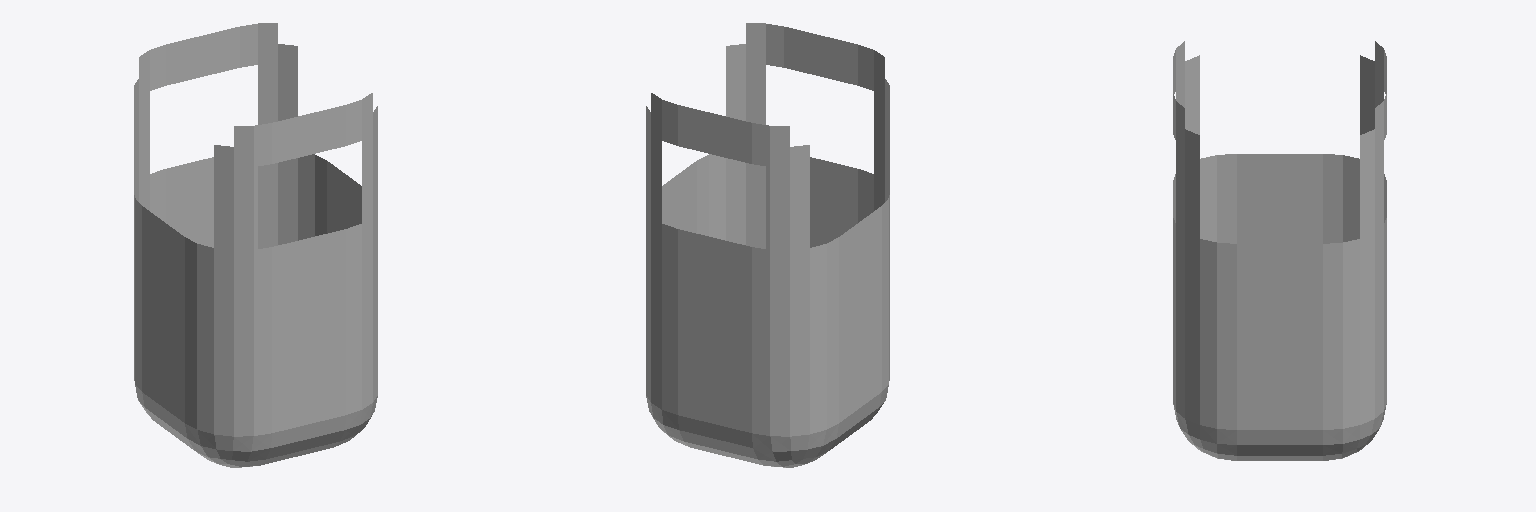
Rendered from bag2_2.obj.
The picture shows the model from 3 angles: view 1: azimuth 30°, elevation 25°; view 2: azimuth 150°, elevation 25°; view 3: azimuth 270°, elevation 25°; orthographic projection.
Visible parts, largest first — view 1: Cube-0-1.054_Cube.169; view 2: Cube-0-1.054_Cube.169; view 3: Cube-0-1.054_Cube.169.
Part boxes in pixels (x1,y1,x2,y2): Cube-0-1.054_Cube.169: (134,23,377,467); Cube-0-1.054_Cube.169: (646,23,889,467); Cube-0-1.054_Cube.169: (1173,41,1386,460).
Size of the model in its own units: 2 by 3.75 by 2.